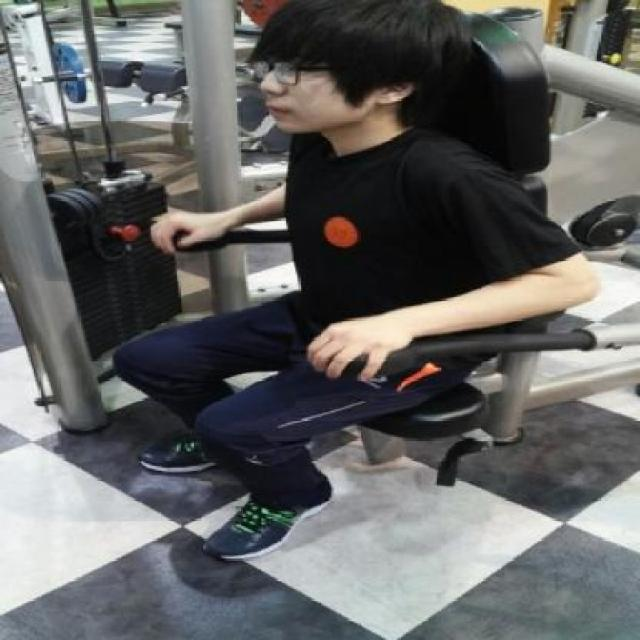seated dip machine: (0, 0, 640, 578)
